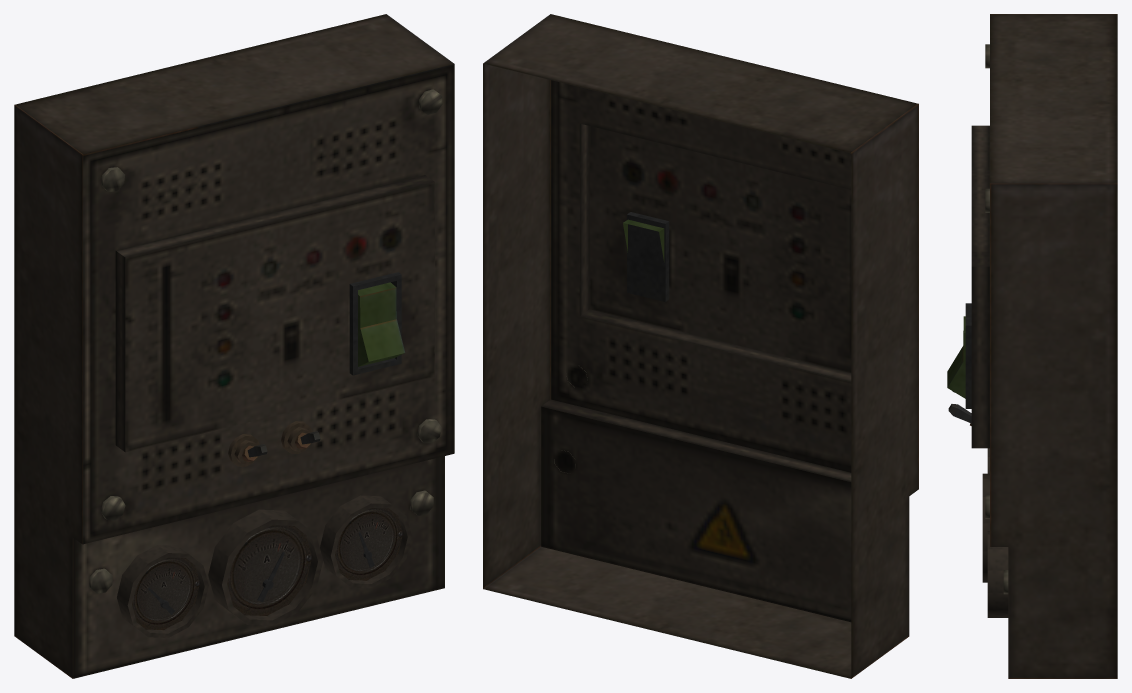
Rendered from panel_etx_1_1.obj.
The picture shows the model from 3 angles, left to right: view 1: azimuth 30°, elevation 25°; view 2: azimuth 150°, elevation 25°; view 3: azimuth 270°, elevation 25°; orthographic projection. The views are drawn at different scales.
Visible parts, largest first — view 1: panel_etx_1_1, panel_etx_1_1_button_child; view 2: panel_etx_1_1; view 3: panel_etx_1_1, panel_etx_1_1_button_child, panel_etx_1_1_switch_child_2.
Part boxes in pixels (bbox=[...]): panel_etx_1_1: bbox=[14, 14, 454, 678]; panel_etx_1_1_button_child: bbox=[358, 282, 405, 366]; panel_etx_1_1: bbox=[483, 14, 918, 678]; panel_etx_1_1: bbox=[965, 14, 1117, 678]; panel_etx_1_1_button_child: bbox=[947, 316, 965, 398]; panel_etx_1_1_switch_child_2: bbox=[948, 404, 971, 425].
Bounding box in the file's own units: 0.44 × 0.6 × 0.1866.
